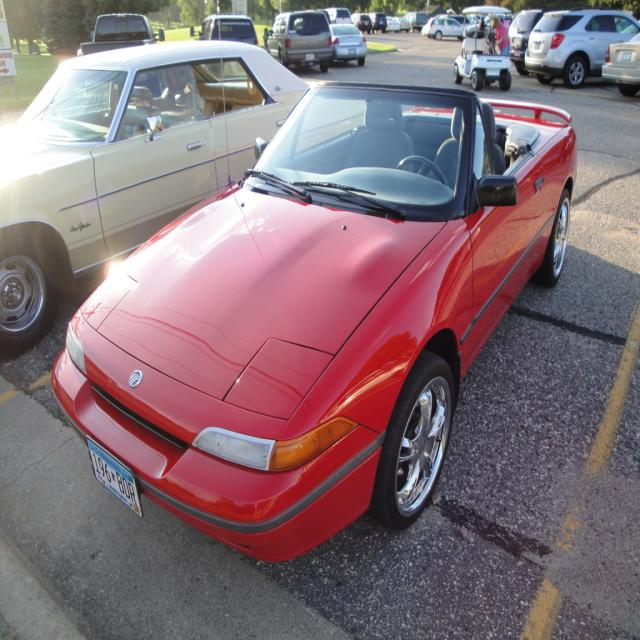car: (50, 83, 576, 529), (263, 10, 336, 72), (331, 19, 367, 64), (351, 8, 371, 27), (385, 14, 397, 31)
